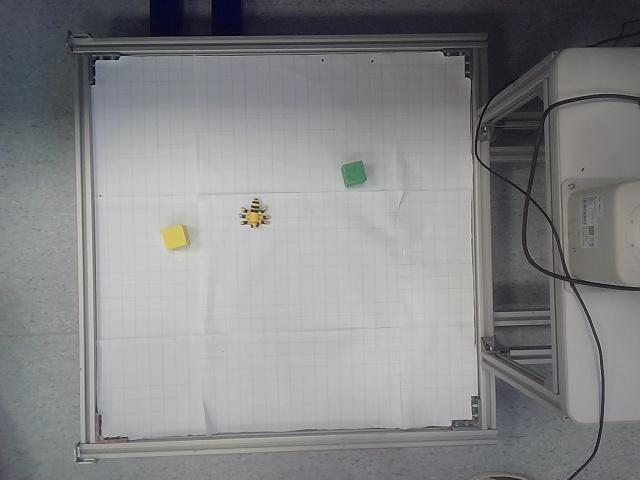frelon: (238, 198, 272, 229)
